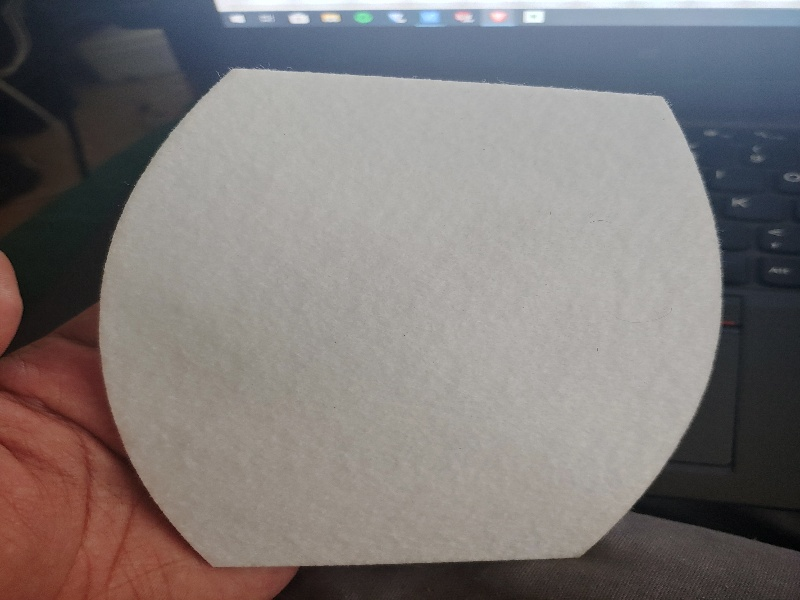Filter: (99, 66, 724, 568)
